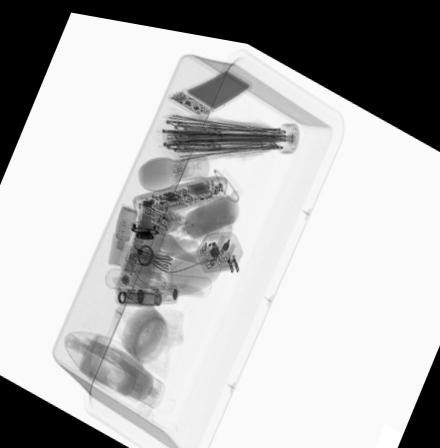Powerbank: (169, 57, 255, 114)
